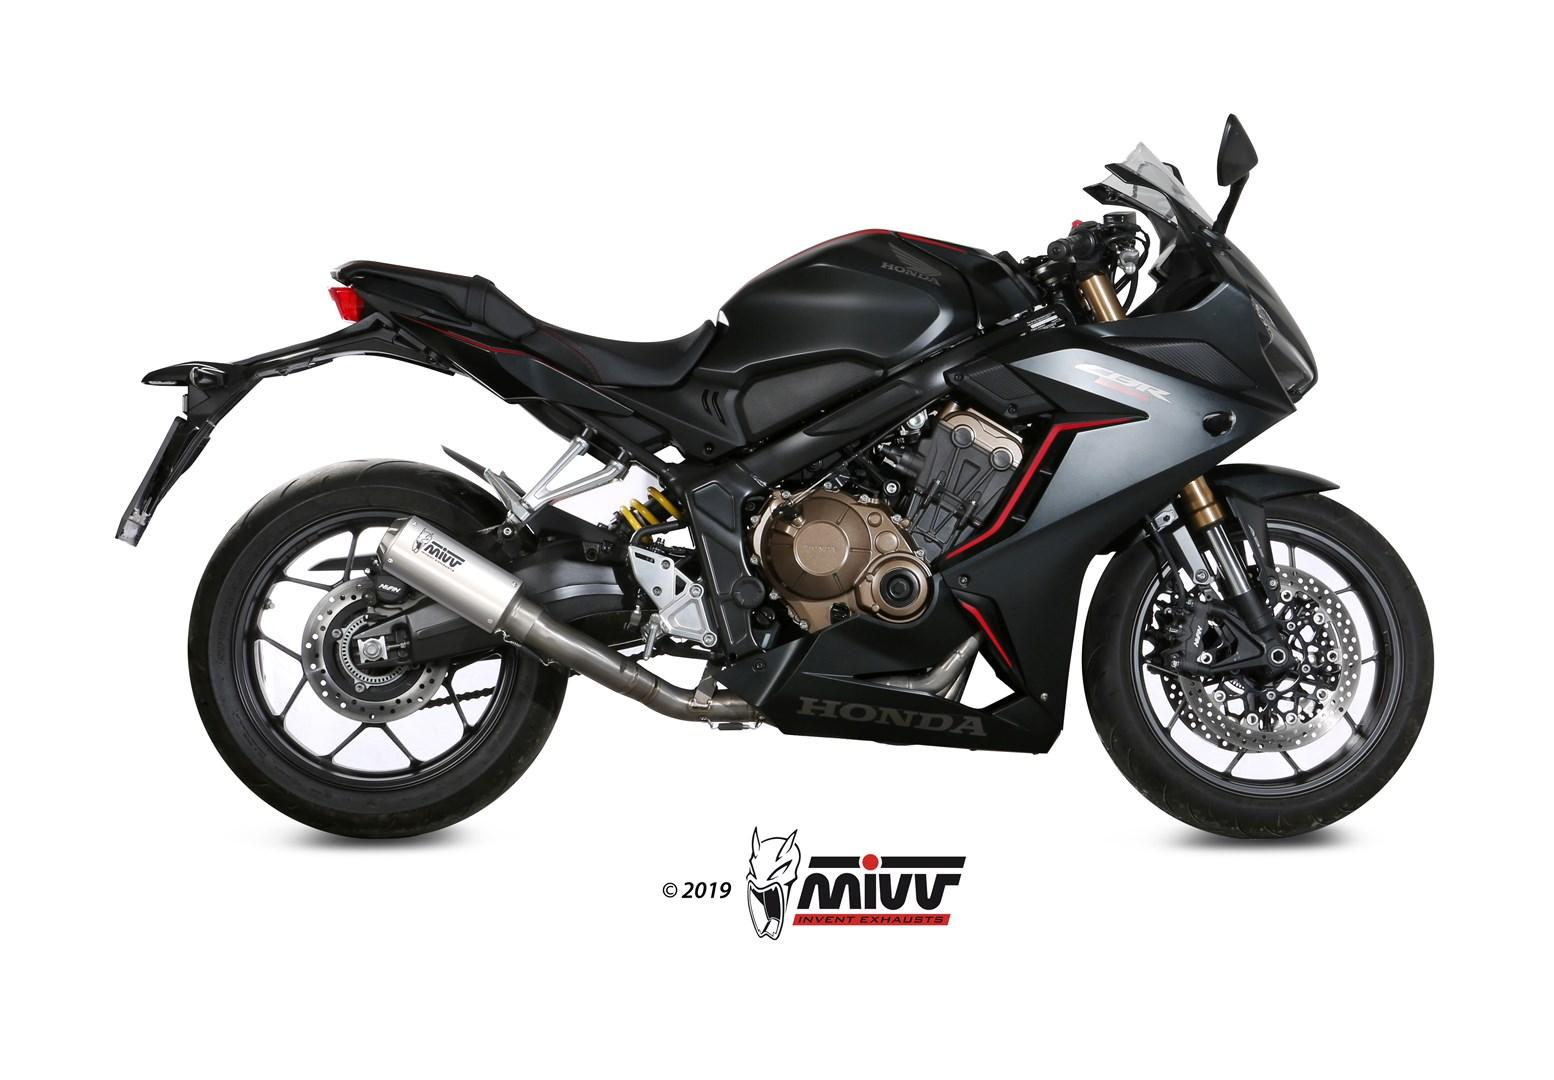engine-chasis: (628, 297, 1078, 755), (596, 474, 687, 542)
exhaust: (376, 516, 778, 731), (861, 628, 987, 703)
frontside: (935, 140, 1339, 731)
handlebar: (1018, 211, 1151, 314), (1128, 202, 1222, 316), (1199, 113, 1259, 249), (1162, 163, 1184, 186)
motorbike: (116, 116, 1435, 838)
rearside: (113, 275, 751, 650), (352, 597, 509, 669), (628, 519, 701, 582)
seat: (329, 260, 716, 387)
tank: (692, 228, 1049, 446)
watermark: (631, 812, 985, 963)
wheel: (188, 457, 569, 839), (1083, 493, 1434, 839), (1142, 513, 1187, 609), (677, 640, 701, 648), (627, 652, 645, 662), (569, 668, 582, 679), (651, 649, 664, 659)
